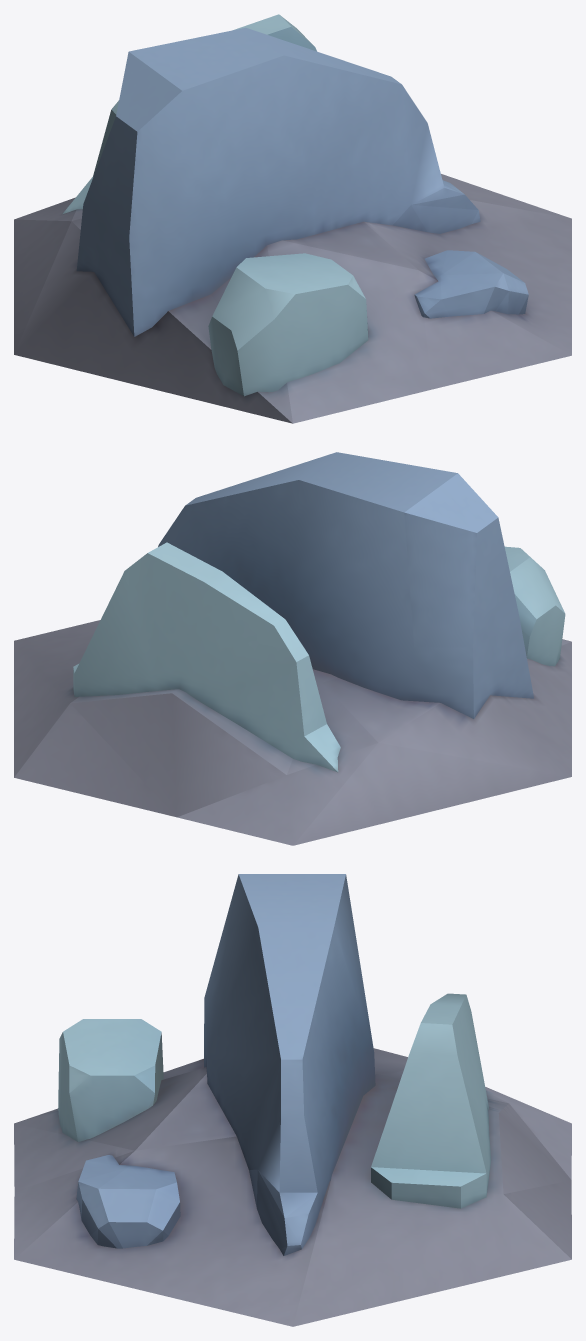
The model's file is rock.FBX.
3 views of the same model, one above another, from view 1: azimuth 30°, elevation 25°; view 2: azimuth 150°, elevation 25°; view 3: azimuth 270°, elevation 25° (orthographic).
Parts seen in each view (by area): view 1: OBJ_SmallRock_08; view 2: OBJ_SmallRock_08; view 3: OBJ_SmallRock_08.
Part boxes in pixels (<box>): OBJ_SmallRock_08: <box>14,14,571,423</box>; OBJ_SmallRock_08: <box>14,452,571,845</box>; OBJ_SmallRock_08: <box>14,874,571,1326</box>.
Size of the model in its own units: 3.06 by 1.32 by 2.65.
